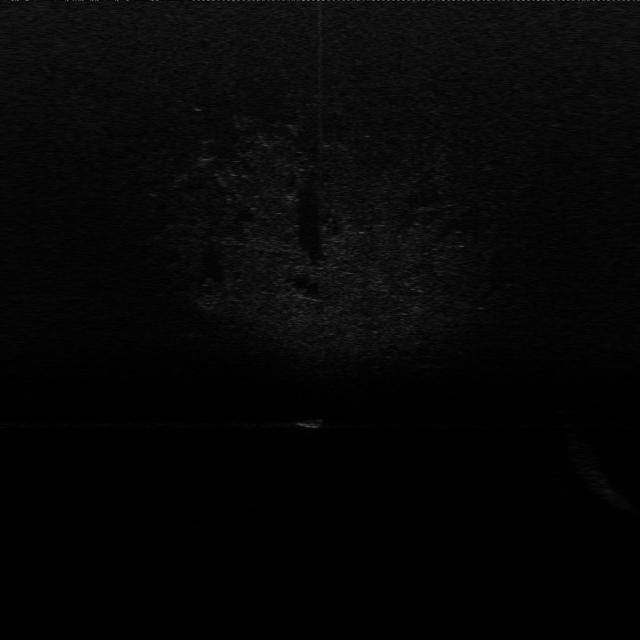square cage: (286, 406, 328, 430)
